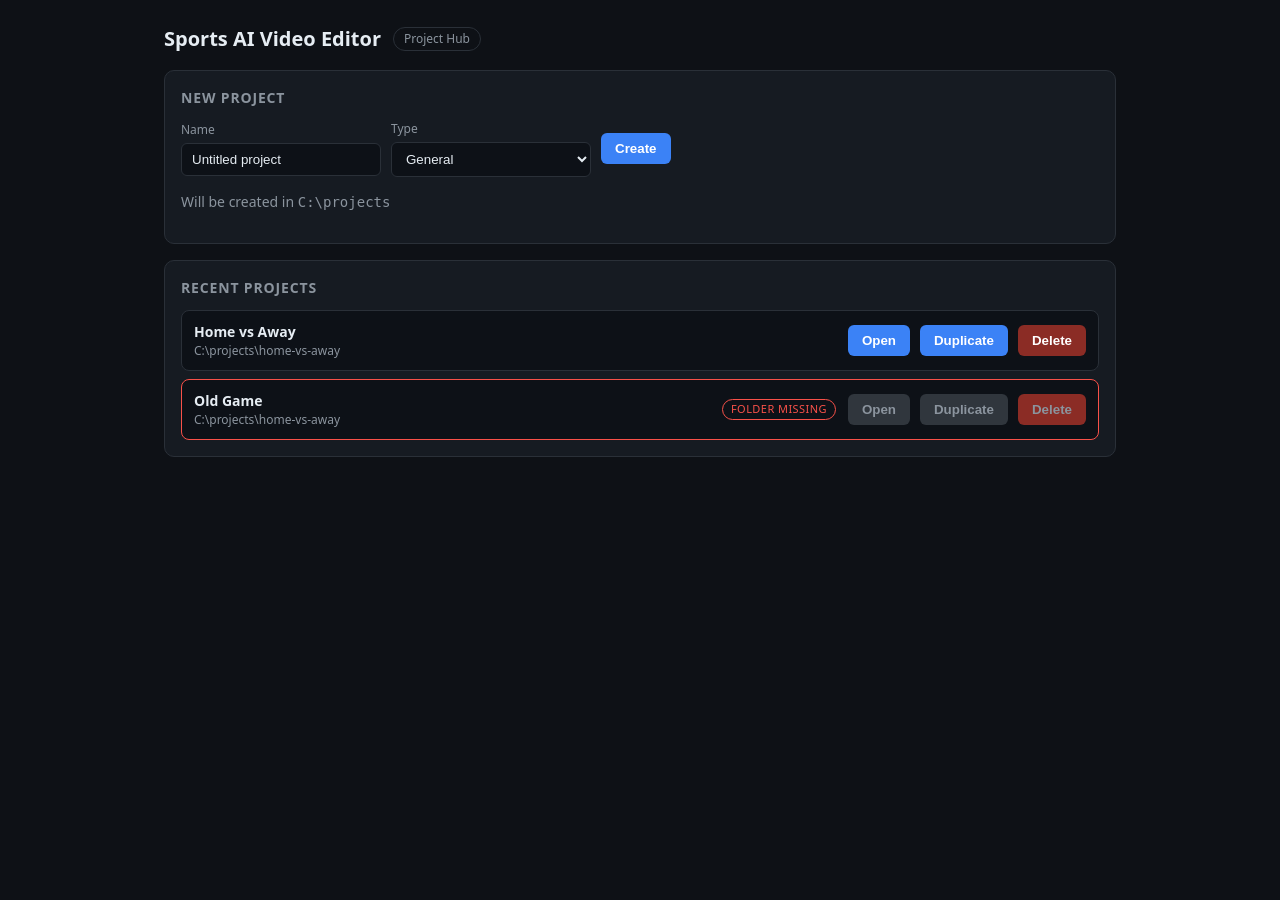
Project Hub › cancelling the confirmation deletes nothing
The image size is (1280, 900).
Expected: the text "Home vs Away" is shown, x1=194 y1=322 x2=296 y2=341
Click the button "Delete" in the row of "Home vs Away" at (1052,340), box x1=1018 y1=325 x2=1086 y2=356
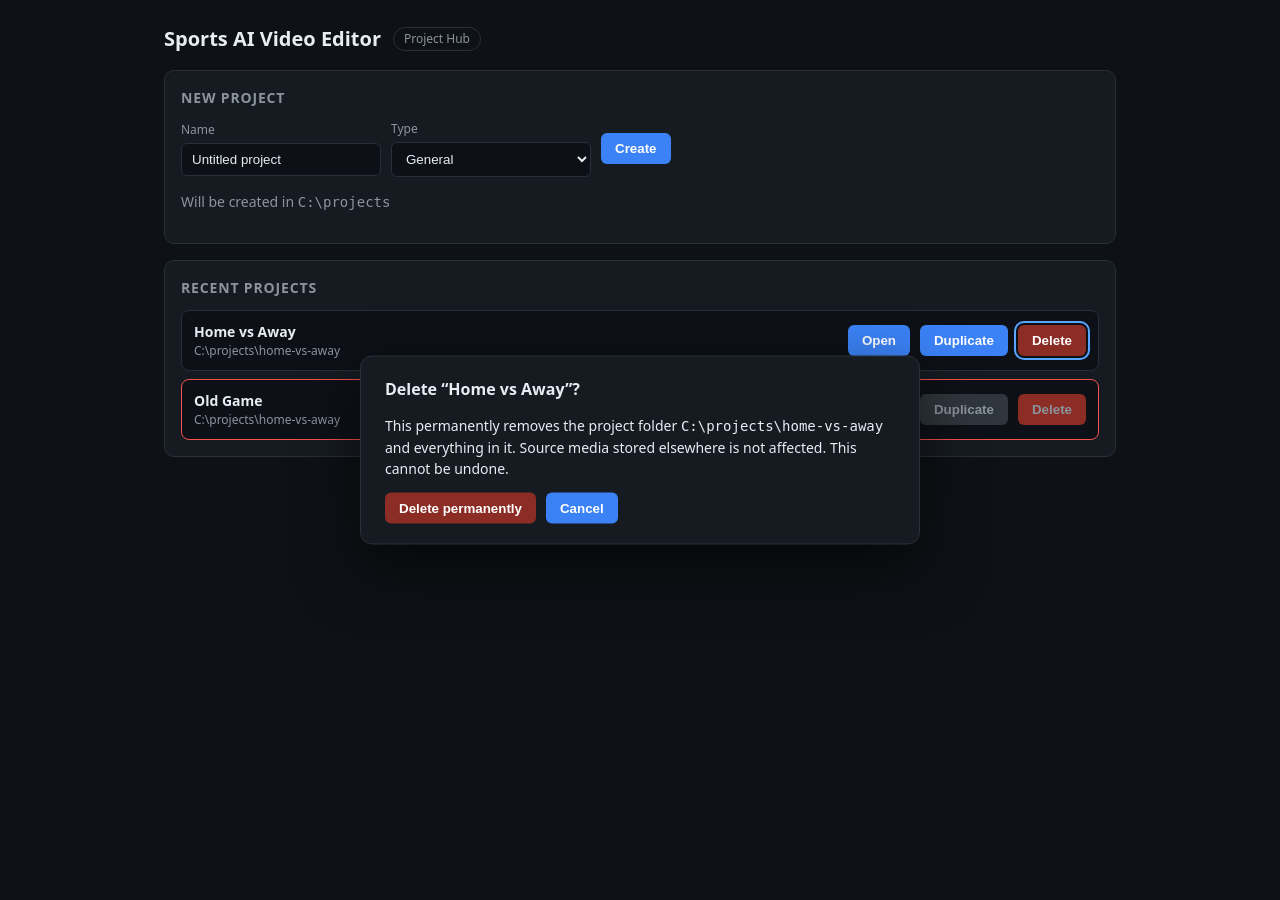
Click the button "Cancel" at (582,508), box x1=546 y1=492 x2=618 y2=524
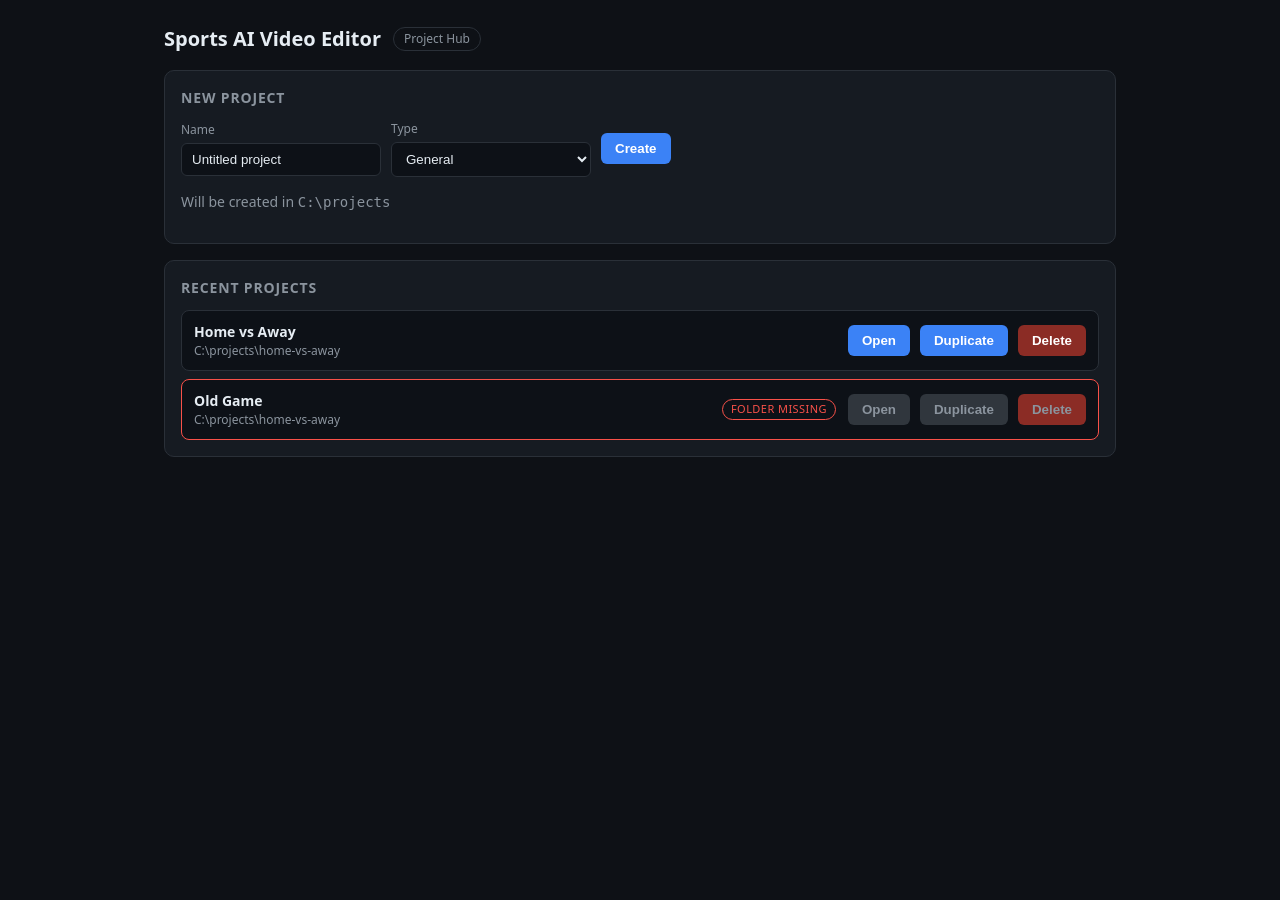
Expected: the dialog is gone
